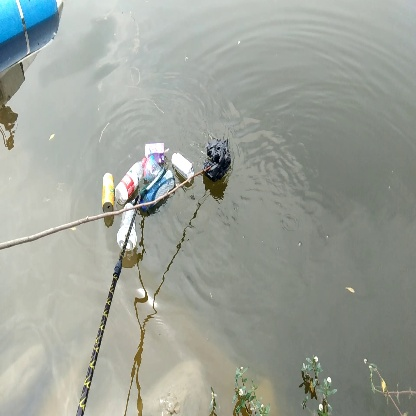bottle: (97, 171, 117, 214)
plastic-bag: (201, 135, 235, 185)
